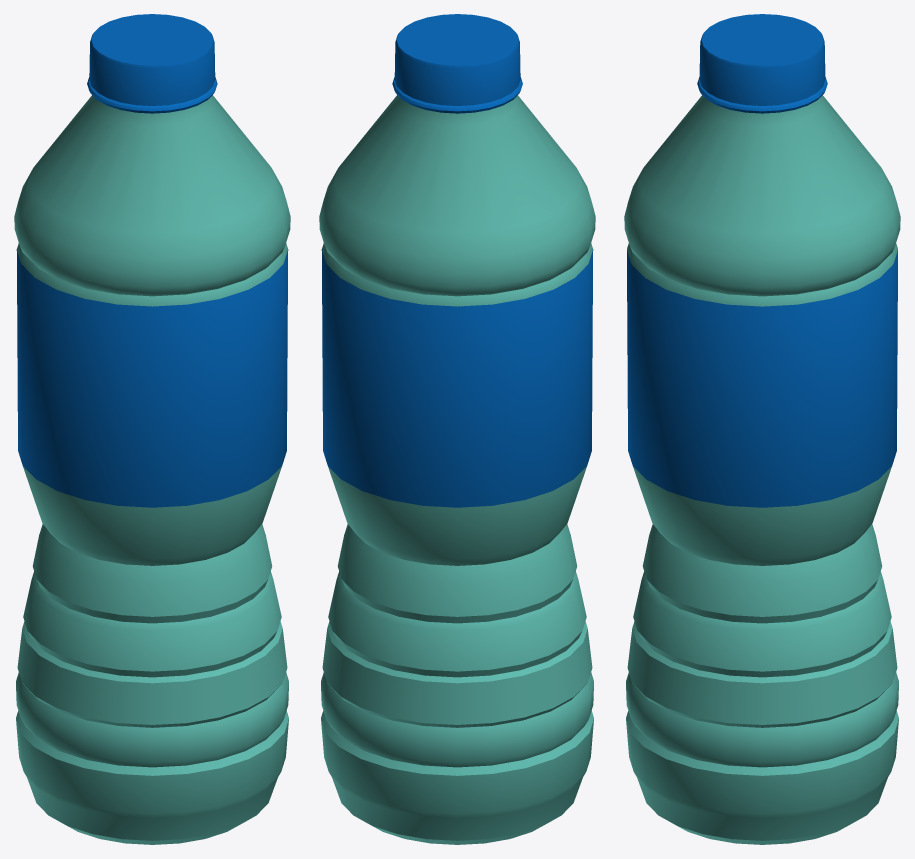
Rendered from bottle.fbx.
3 views of the same model, side by side, from view 1: azimuth 30°, elevation 25°; view 2: azimuth 150°, elevation 25°; view 3: azimuth 270°, elevation 25° (orthographic).
Visible parts, largest first — view 1: bottle_Mesh; view 2: bottle_Mesh; view 3: bottle_Mesh.
Boxes of the visible parts, bbox=[...] form: bottle_Mesh: bbox=[14, 14, 290, 844]; bottle_Mesh: bbox=[319, 14, 595, 844]; bottle_Mesh: bbox=[624, 14, 900, 844].
Size of the model in its own units: 4.94 by 15.01 by 4.94.
